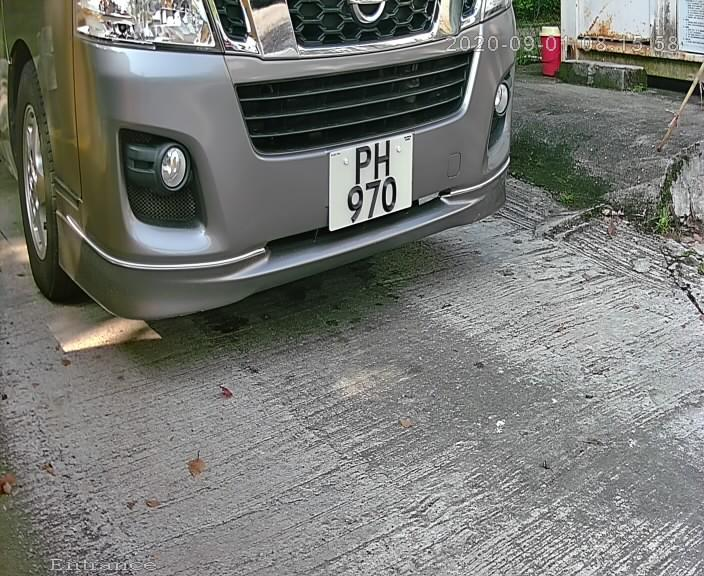Car: (13, 3, 551, 361)
License Plate: (321, 127, 422, 240)
